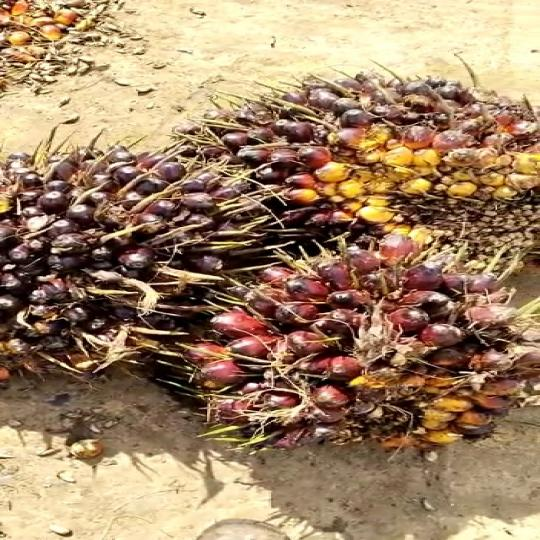kurang masak: (161, 248, 540, 471), (166, 66, 540, 237), (0, 144, 250, 373)
